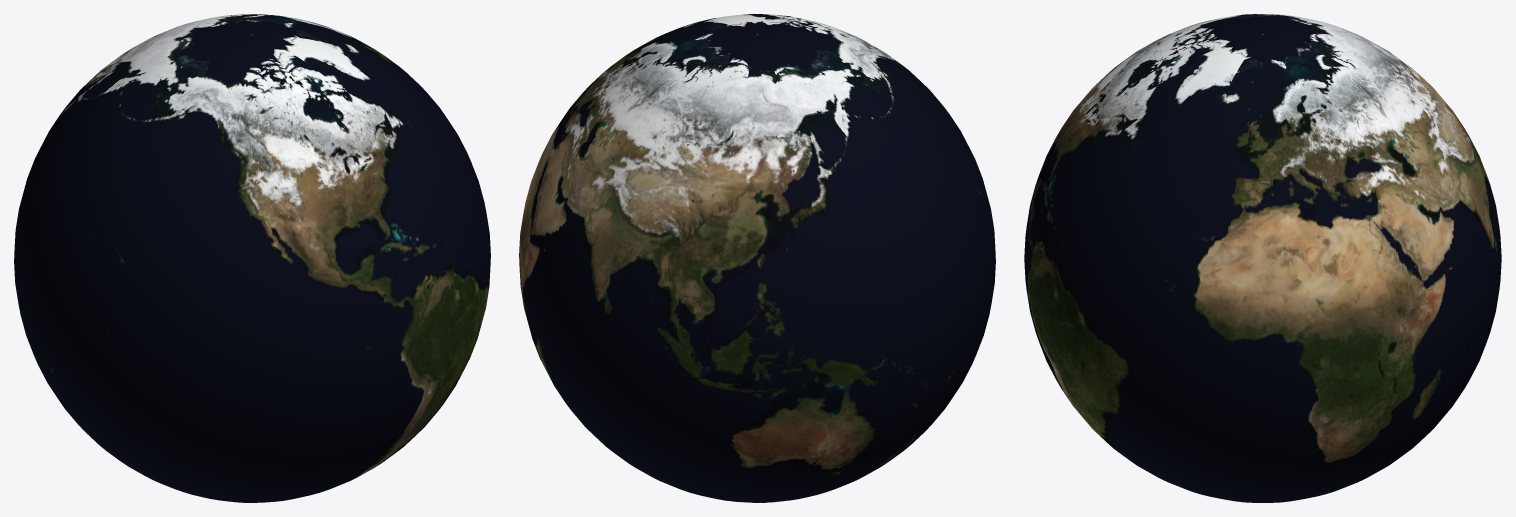
File: Earth.fbx
3 views of the same model, side by side, from view 1: azimuth 30°, elevation 25°; view 2: azimuth 150°, elevation 25°; view 3: azimuth 270°, elevation 25° (orthographic).
Parts seen in each view (by area): view 1: Sphere; view 2: Sphere; view 3: Sphere.
Boxes of the visible parts, x1=… form: Sphere: x1=14, y1=14, x2=490, y2=502; Sphere: x1=519, y1=14, x2=995, y2=502; Sphere: x1=1024, y1=14, x2=1501, y2=502.
Bounding box in the file's own units: 9499 × 9831 × 9499.
